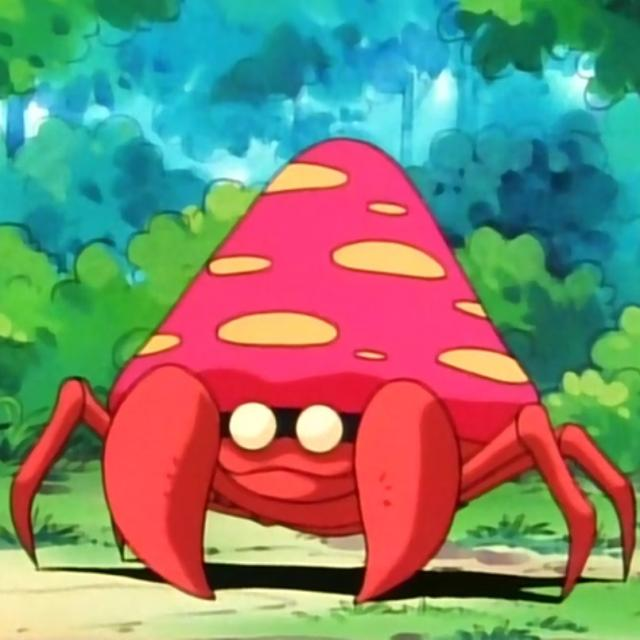Parasect: (86, 137, 599, 590)
